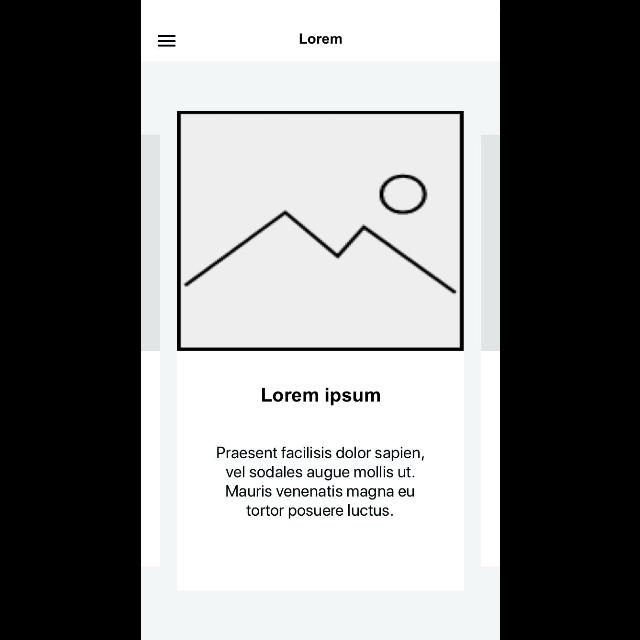icon: (157, 35, 175, 47)
image: (176, 111, 464, 351)
text: (216, 446, 424, 520), (261, 388, 379, 406), (298, 34, 342, 44)
